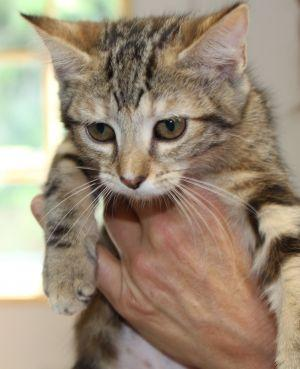bengal: (13, 1, 264, 215)
